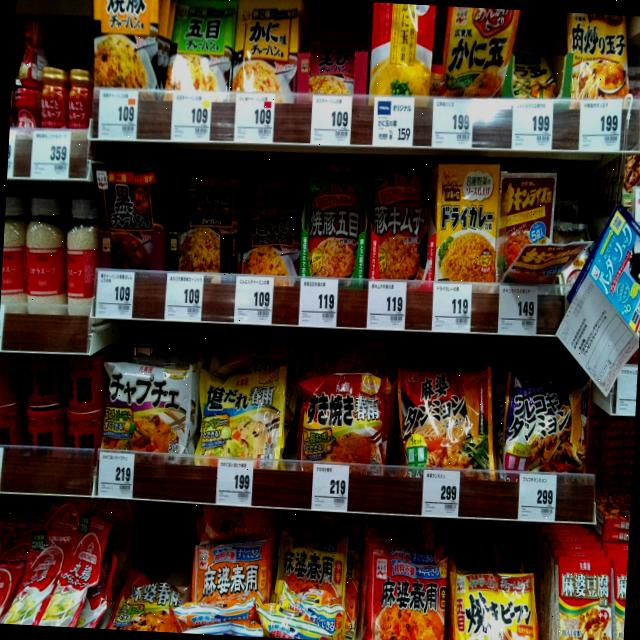objects: (510, 94, 554, 153), (430, 94, 477, 148), (372, 96, 417, 152), (578, 98, 622, 155), (496, 284, 540, 340), (309, 94, 354, 147), (430, 280, 474, 334), (233, 272, 275, 328), (29, 128, 72, 181), (170, 90, 213, 142), (367, 278, 408, 332), (298, 278, 340, 330), (516, 472, 558, 524), (98, 89, 140, 140), (94, 268, 136, 319), (214, 454, 256, 505), (165, 270, 205, 322), (311, 461, 351, 513), (234, 94, 275, 142), (420, 468, 460, 517), (97, 451, 136, 498), (0, 443, 4, 496)
